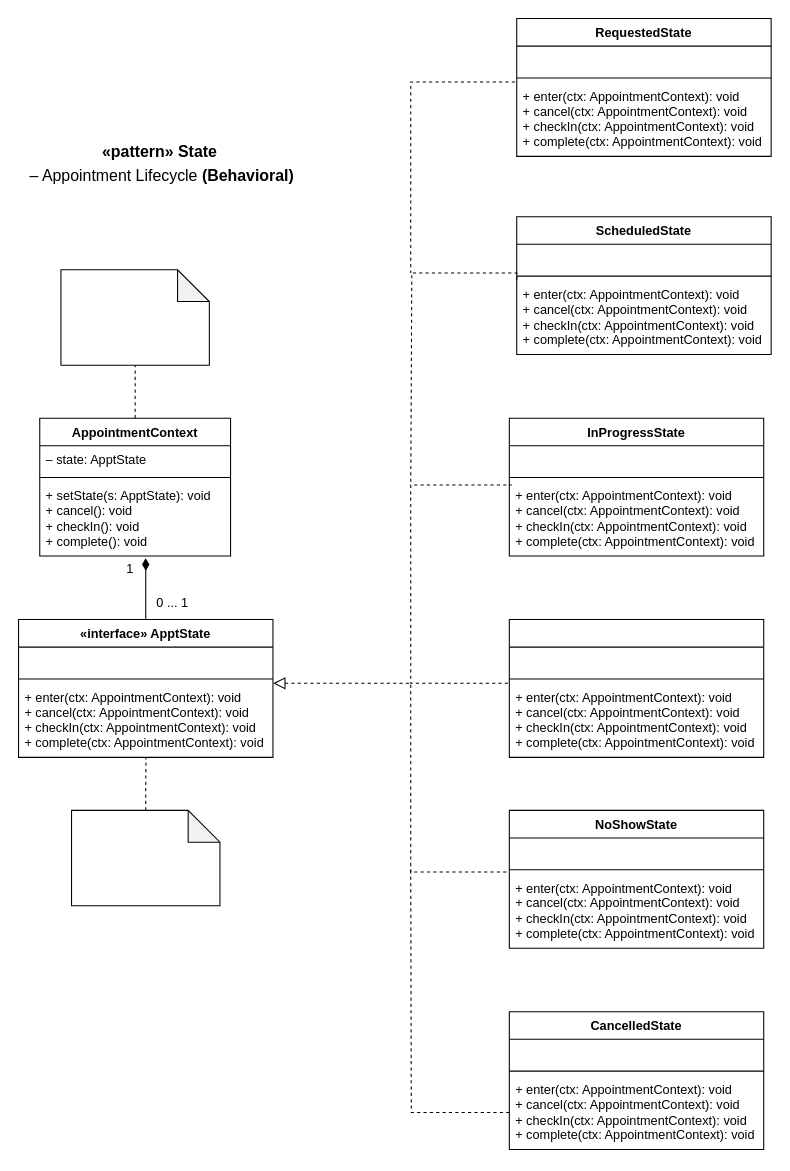
Image size: 790x1171. Some labels were removed from this diagram. The shapes that lost their labels are listed below. From the top down, each one's box as (x1, y1, x2, y2) in pixels, then its label:
(60, 269, 209, 365): «context» Maintains current state and delegates requests.
(508, 619, 764, 757): CompletedState
(70, 809, 220, 906): «strategy» Defines the interface for all concrete states.
